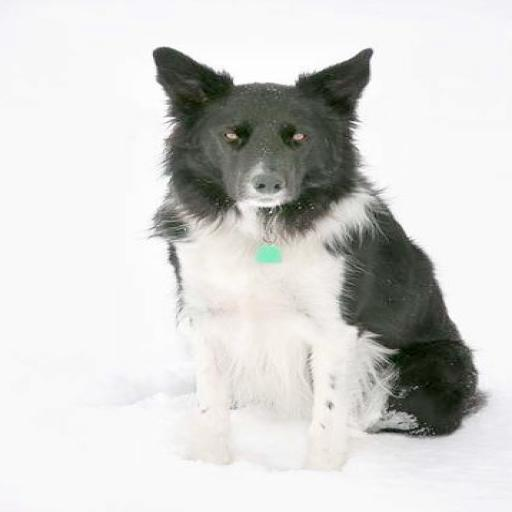dog_face: (141, 42, 391, 223)
